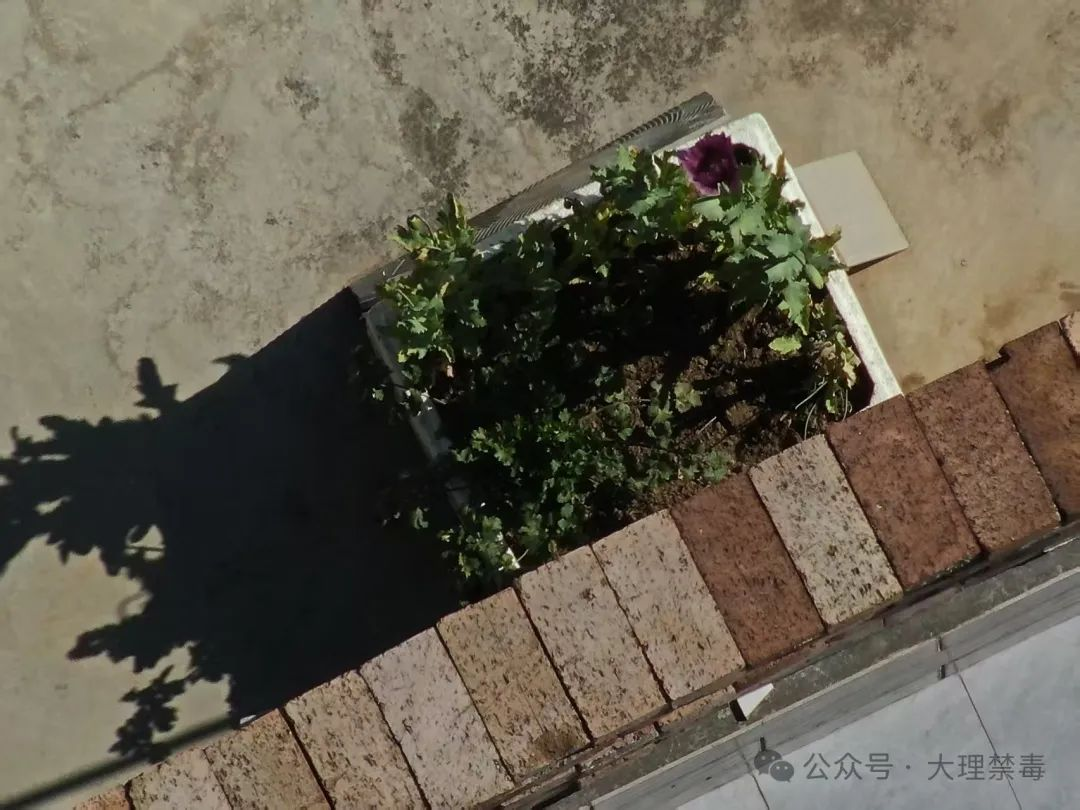Poppy: (554, 114, 846, 356)
